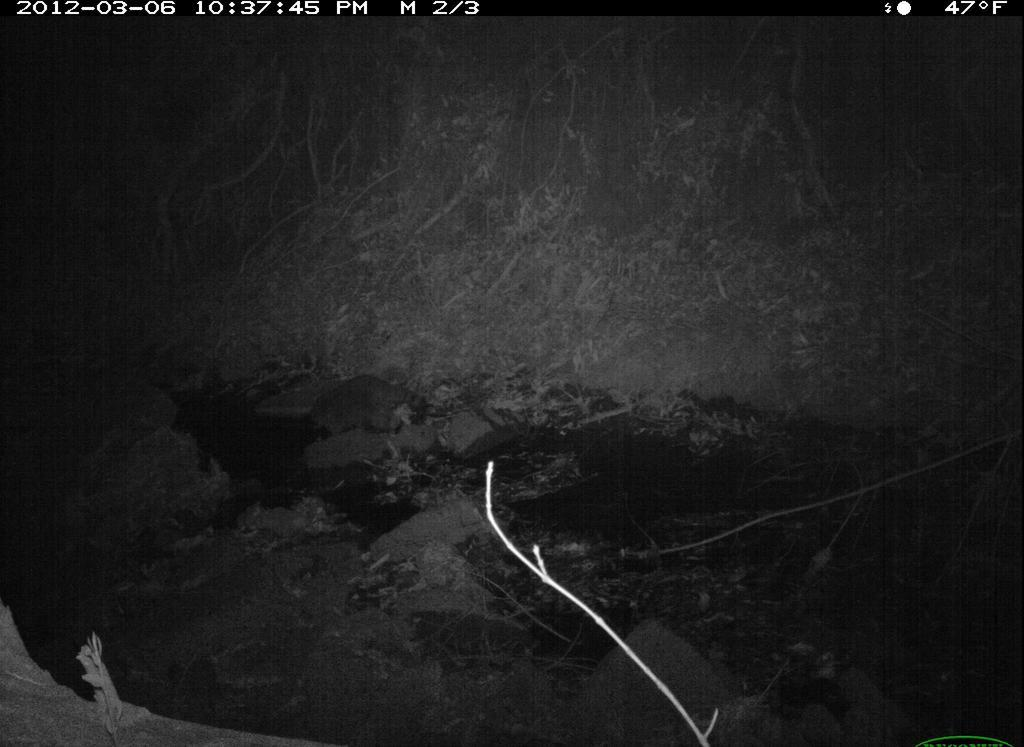raccoon: (299, 367, 447, 447)
